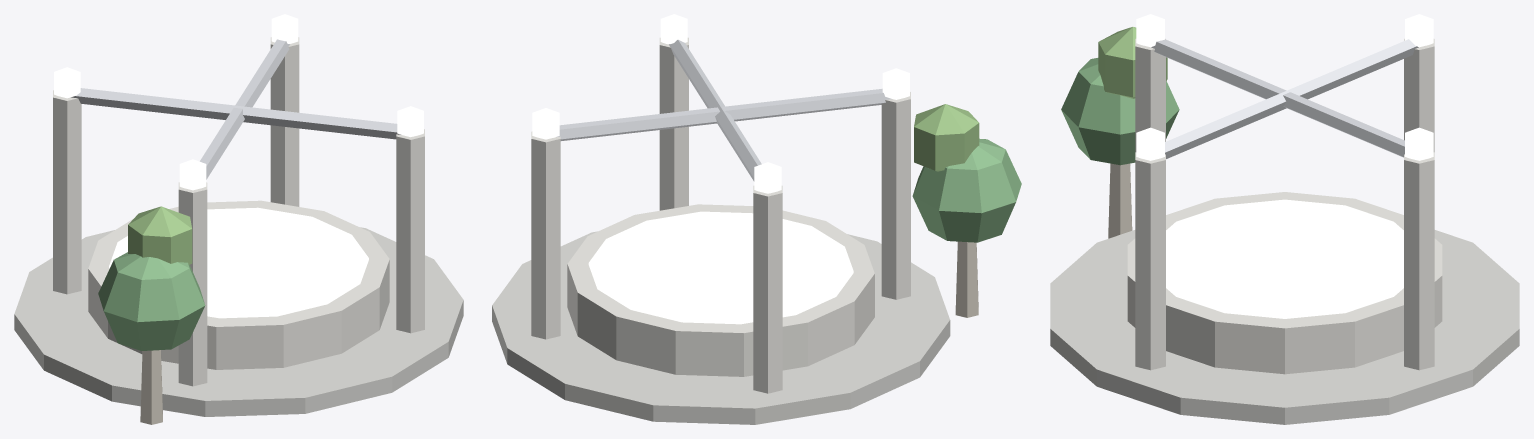
The picture shows the model from 3 angles, left to right: view 1: azimuth 30°, elevation 25°; view 2: azimuth 150°, elevation 25°; view 3: azimuth 270°, elevation 25°; orthographic projection. The views are drawn at different scales.
Parts seen in each view (by area): view 1: body; view 2: body; view 3: body.
Boxes of the visible parts, x1,y1,x2,y2 form: body: [14, 14, 463, 424]; body: [492, 14, 1021, 424]; body: [1050, 14, 1519, 424].
Size of the model in its own units: 7.94 by 4.4 by 7.41.
